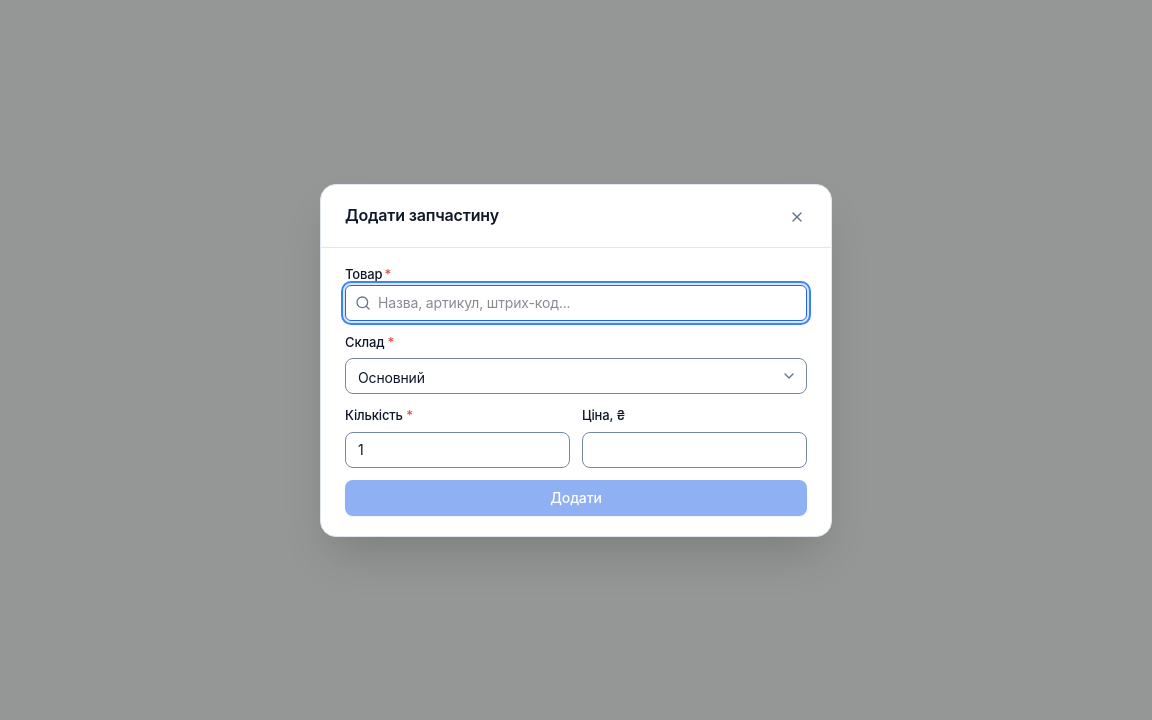
Test: WorkOrderAddPartModal — склад запчастини (BR-WO-029) › підписи — вільна кількість; індикатор — вільна на обраному складі; /stock-items не кличеться
In the dropdown with placeholder "Назва, артикул, штрих-код...": {"x": 576, "y": 302} 345,284 -> 807,320, type "Фільтр л"
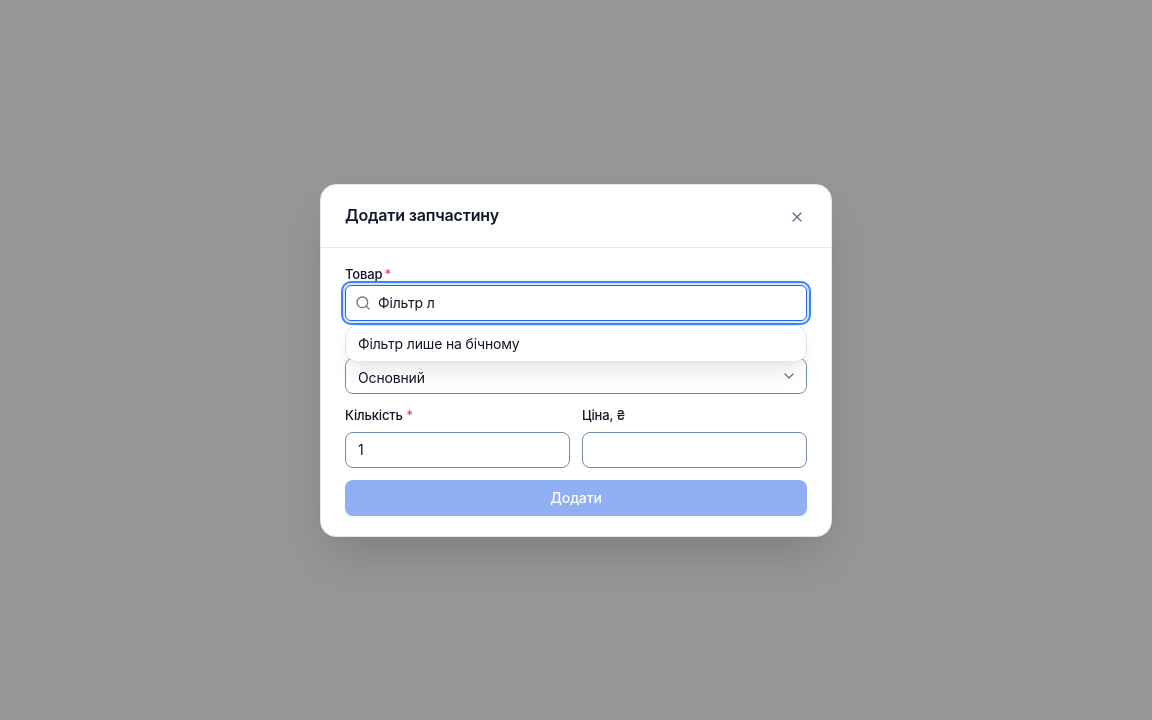
Click the option "Фільтр лише на бічному": {"x": 439, "y": 343} 358,334 -> 519,352
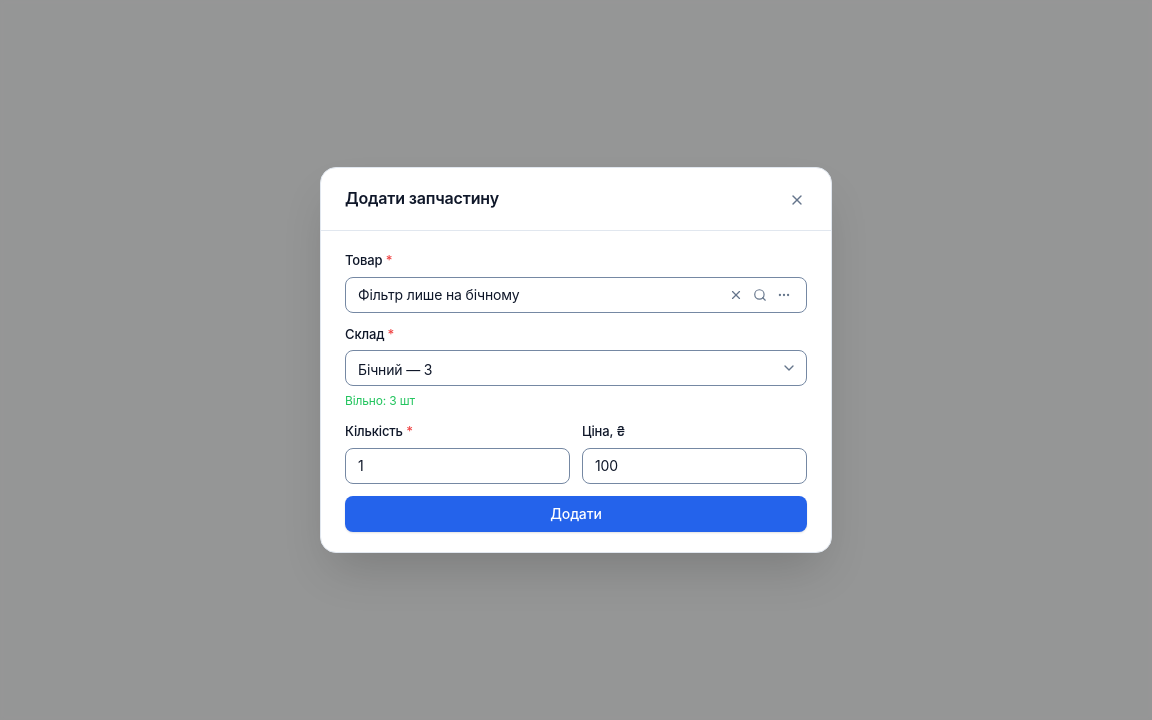
Check: the text with test id "part-stock-indicator" reads "Вільно: 3 шт", box 345,393 -> 415,408
Select "Основний — 0" in the dropdown named "Склад": {"x": 576, "y": 368} 345,350 -> 807,386
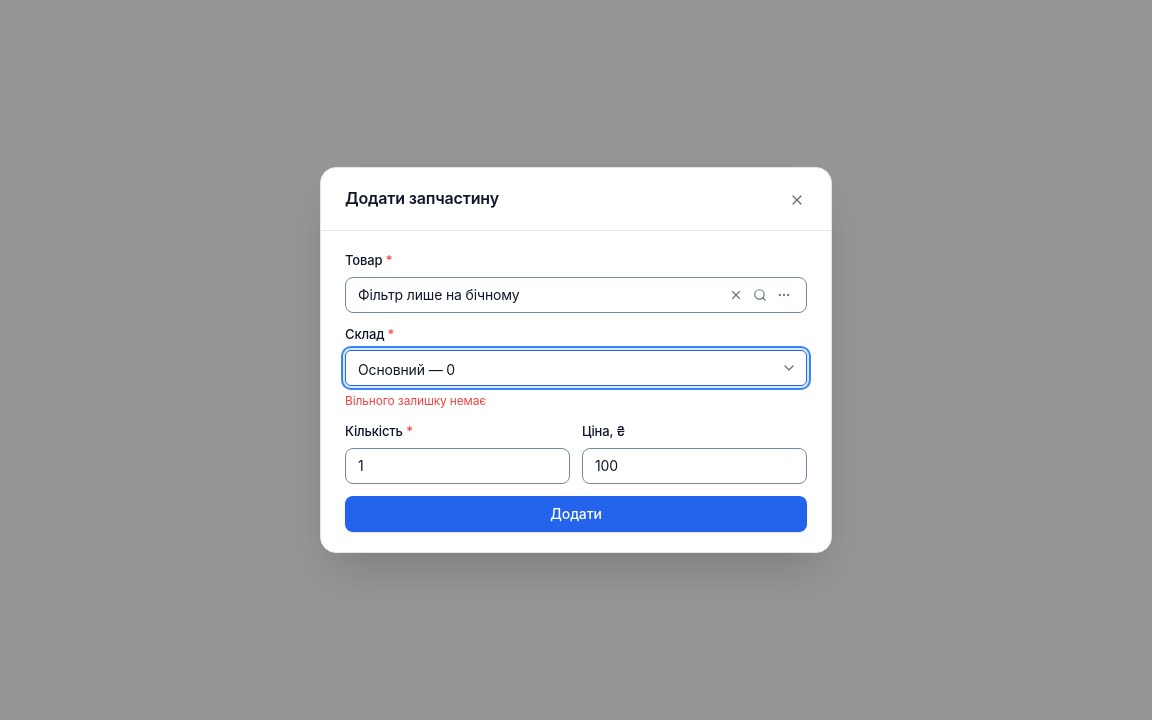
Check: the text with test id "part-stock-indicator" reads "Вільного залишку немає", box 345,393 -> 486,408
